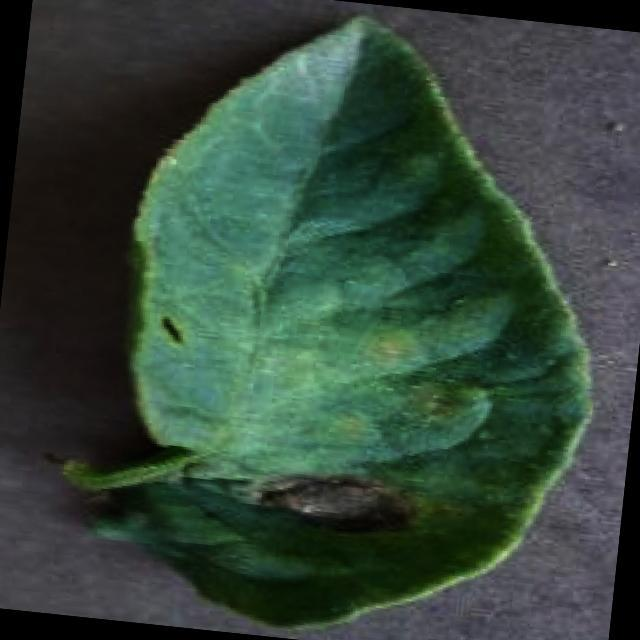Tomato Early blight leaf: (87, 0, 633, 640)
